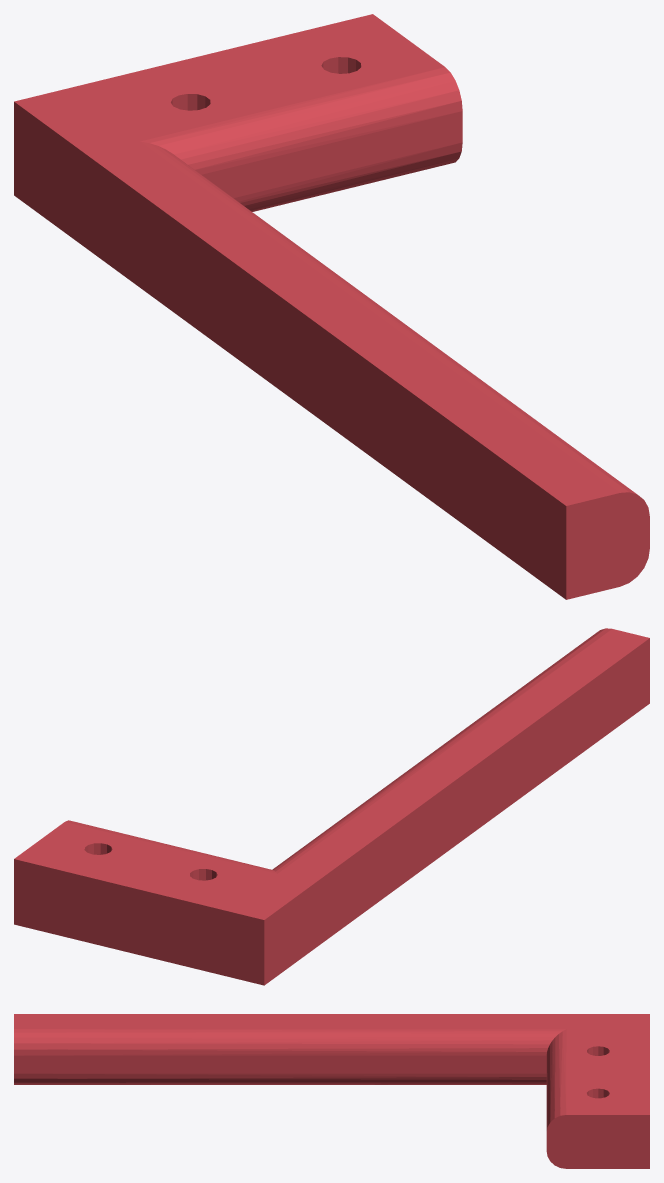
Rendered from WobbleGoalArm.glb.
The picture shows the model from 3 angles, top to bottom: view 1: azimuth 30°, elevation 25°; view 2: azimuth 150°, elevation 25°; view 3: azimuth 270°, elevation 25°; orthographic projection. The views are drawn at different scales.
Size of the model in its own units: 0.0381 by 0.00953 by 0.1016.
